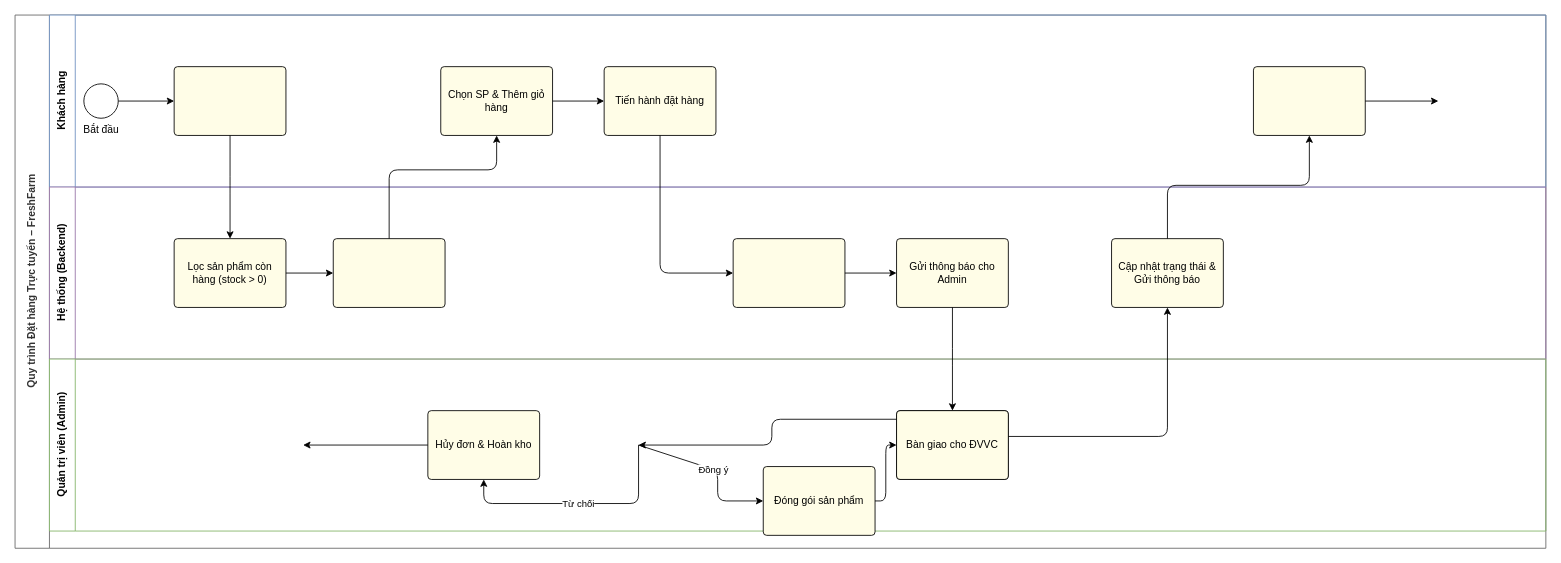
Image size: 1561x563. Some labels were removed from this diagram. Each missing label, with the centre of its shape:
"Duyệt đơn?" belongs at point 638,444.
"Hoàn thành" belongs at point 1438,101.
"Nhận hàng & Xác nhận" belongs at point 1309,100.
"Trả về danh sách SP còn hàng" belongs at point 388,272.
"Tìm kiếm sản phẩm" belongs at point 229,100.
"Tạo đơn hàng & Trừ kho (FEFO)" belongs at point 788,272.
"Đơn bị hủy" belongs at point 303,445.
